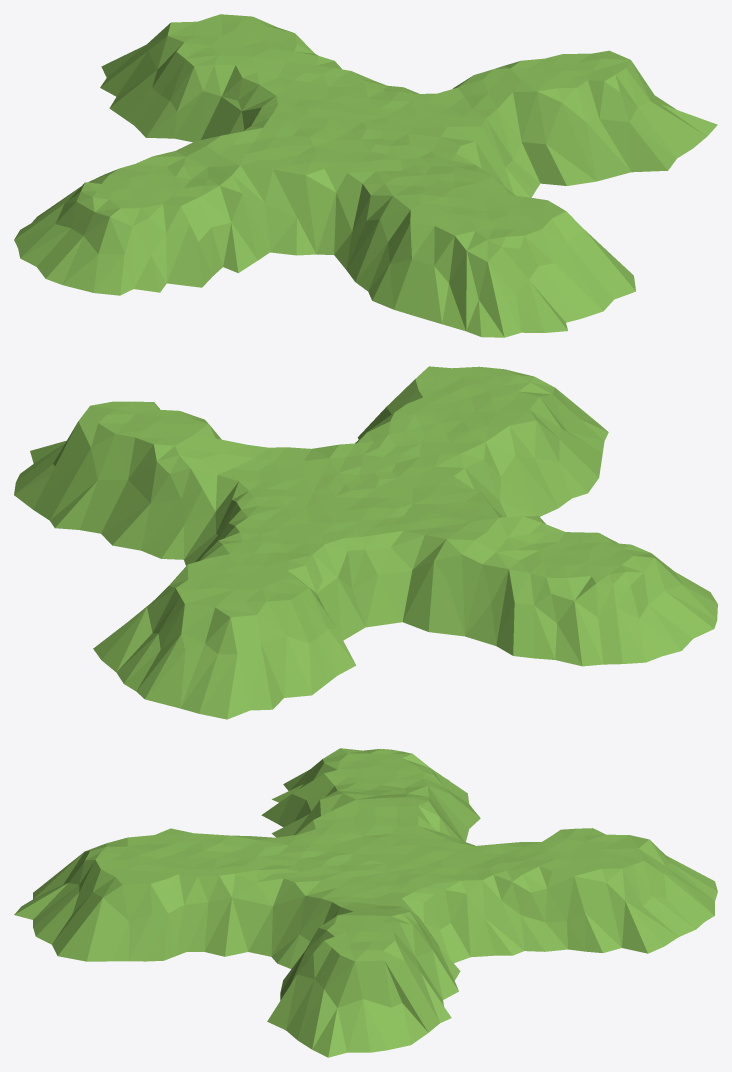
File: MT_Island_L_a_14.fbx
3 renders of one model, top to bottom at view 1: azimuth 30°, elevation 25°; view 2: azimuth 150°, elevation 25°; view 3: azimuth 270°, elevation 25°, orthographic. The views are drawn at different scales.
Parts seen in each view (by area): view 1: MT_Island_L_a_14; view 2: MT_Island_L_a_14; view 3: MT_Island_L_a_14.
Boxes of the visible parts, left/top/right/bottom form: MT_Island_L_a_14: left=14, top=14, right=717, bottom=337; MT_Island_L_a_14: left=14, top=366, right=717, bottom=719; MT_Island_L_a_14: left=14, top=748, right=717, bottom=1057.
Bounding box in the file's own units: 10015 × 1082 × 10226.
